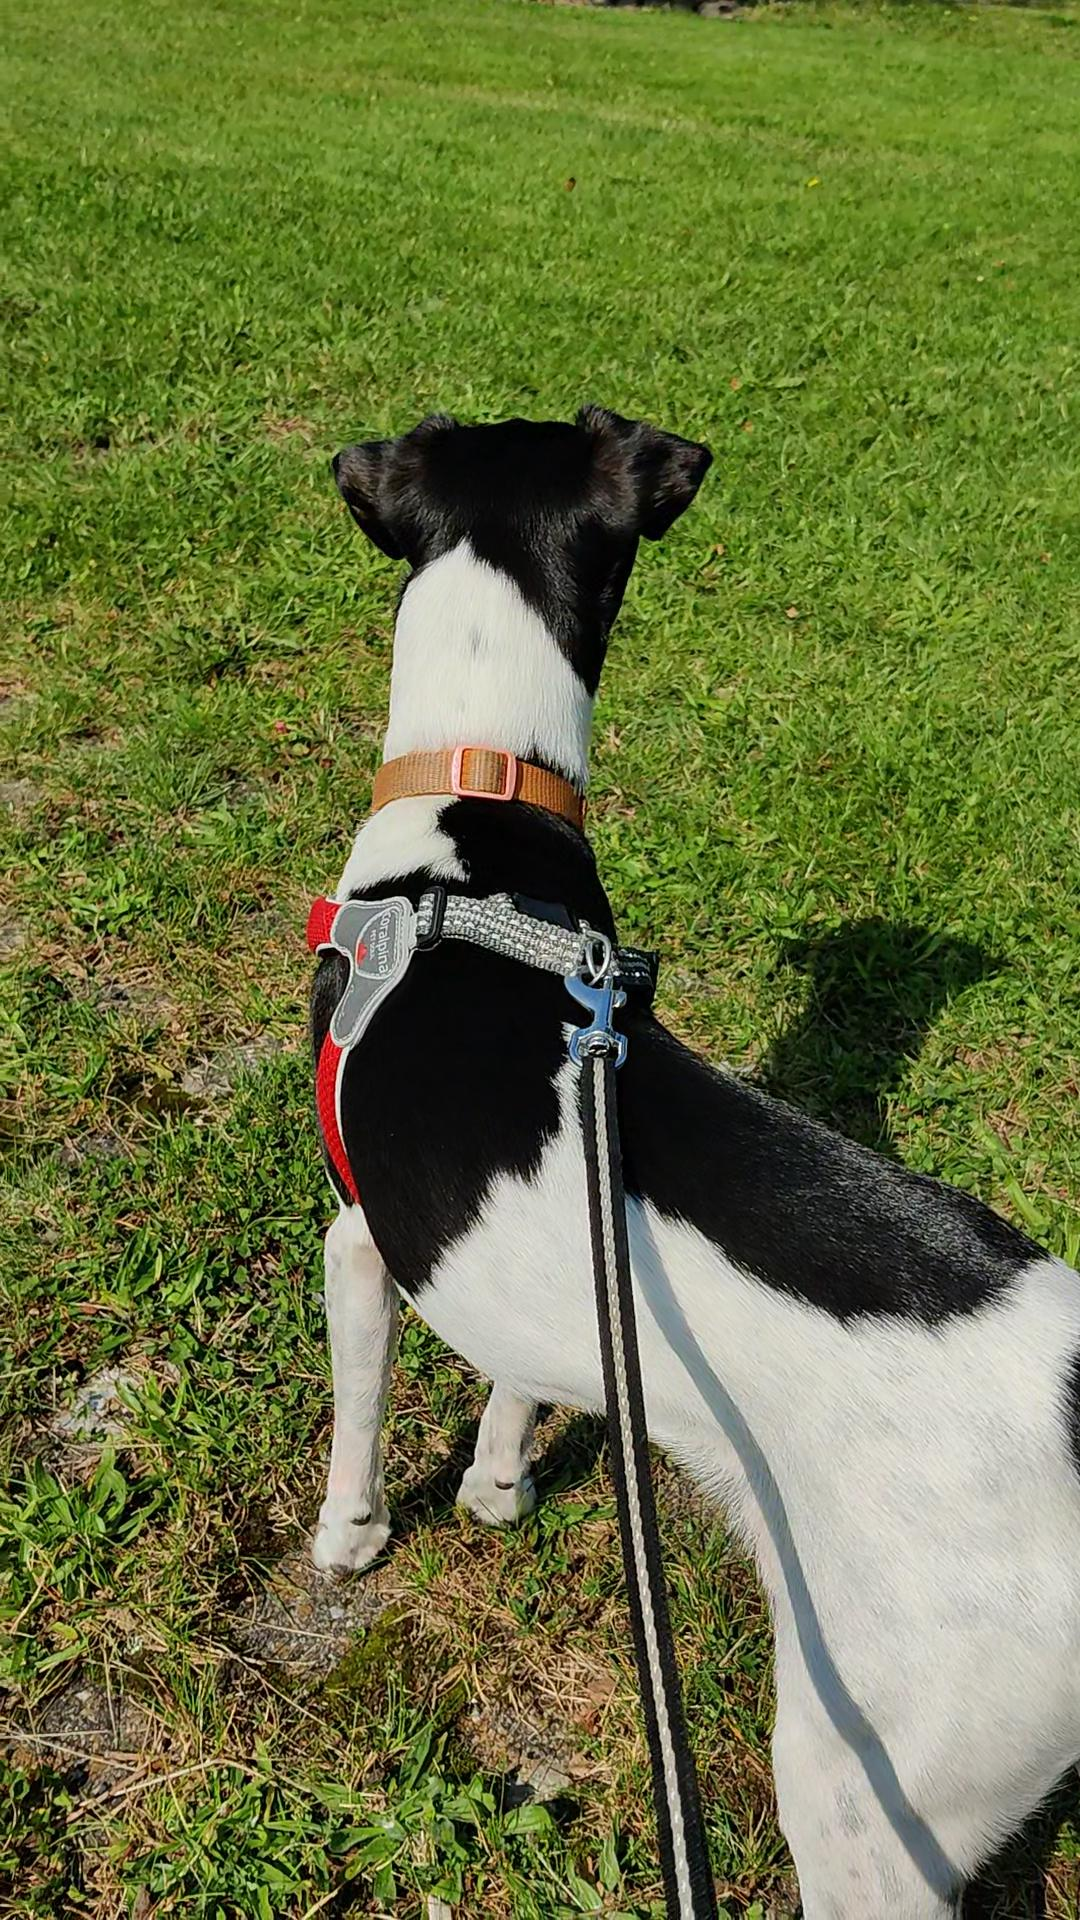Dog: (287, 378, 1079, 1919)
